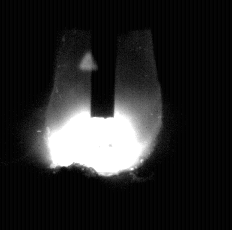arame: (91, 0, 115, 118)
poca: (43, 0, 163, 230)
